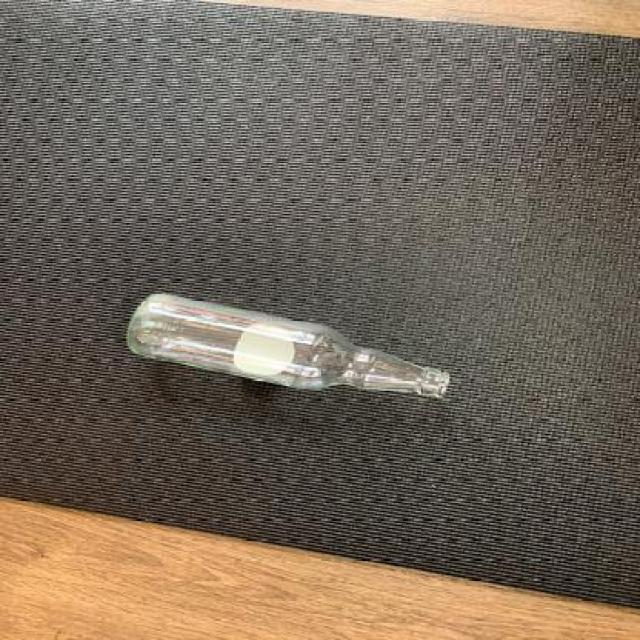trash: (126, 296, 452, 404)
